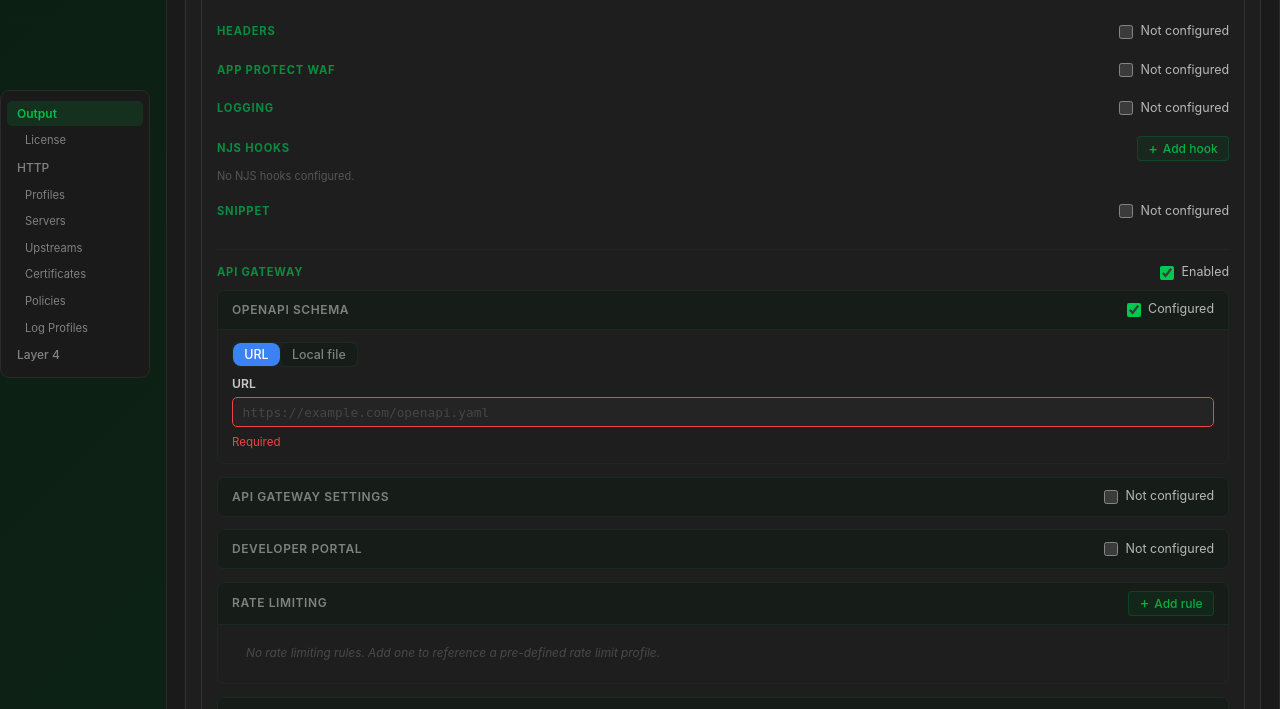
Test: ConfigForm — API Gateway: OpenAPI Schema › Local file mode › restores the URL text input when switching back to URL mode
(page scrolled)
Click the button "Local file".
click(318, 354)  # box [280,343,357,366]
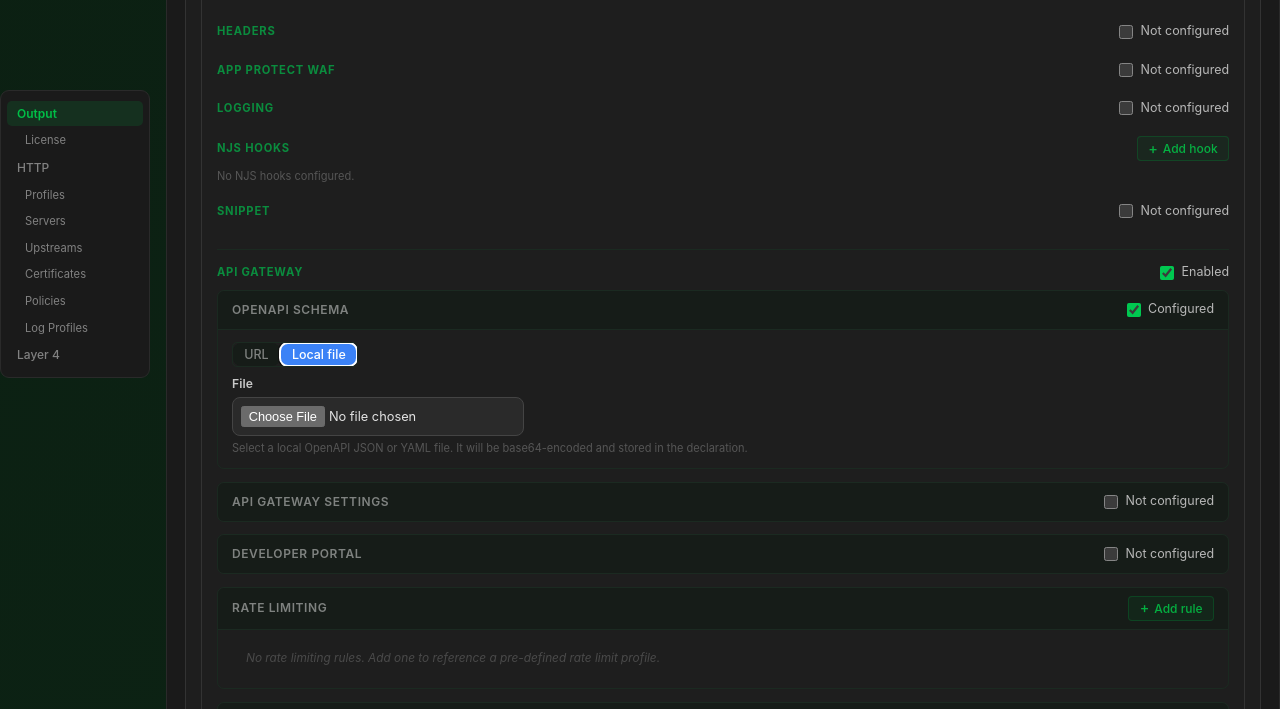
Click the button "URL".
click(256, 354)  # box [233,343,280,366]
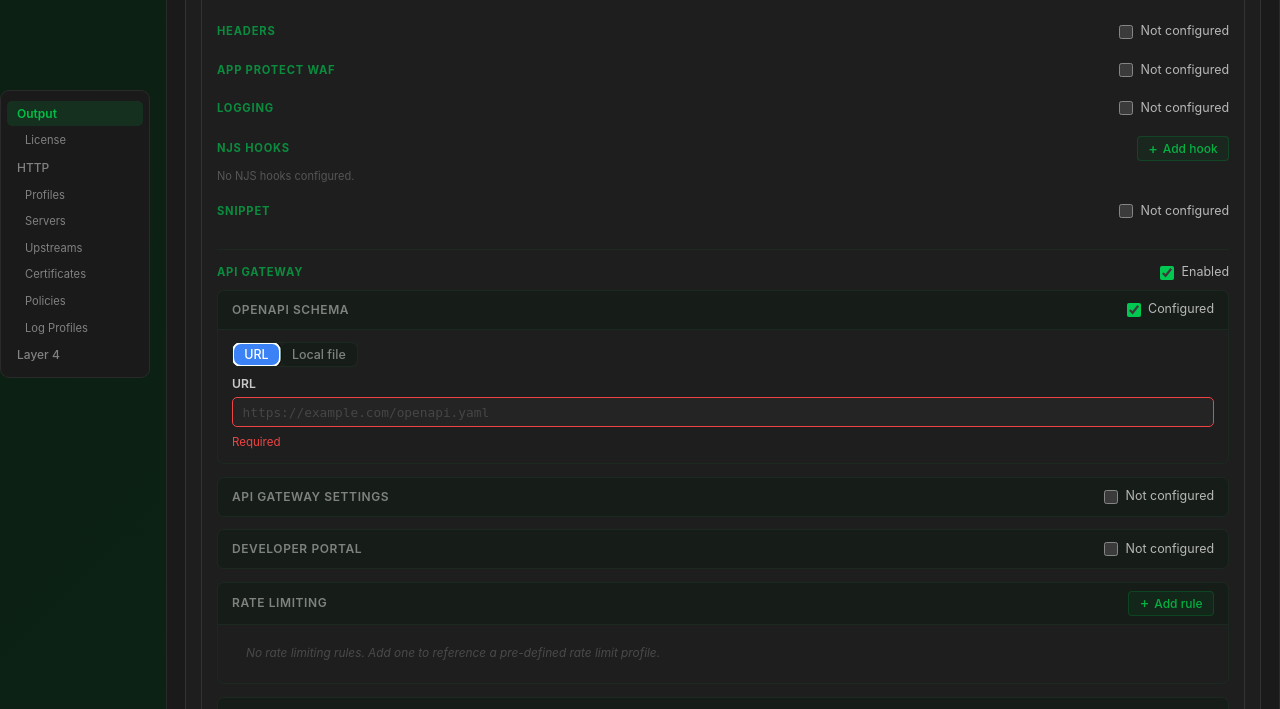
Expected: the field with placeholder "https://example.com/openapi.yaml" is shown, [232,397,1214,427]
Expected: the file field is gone
